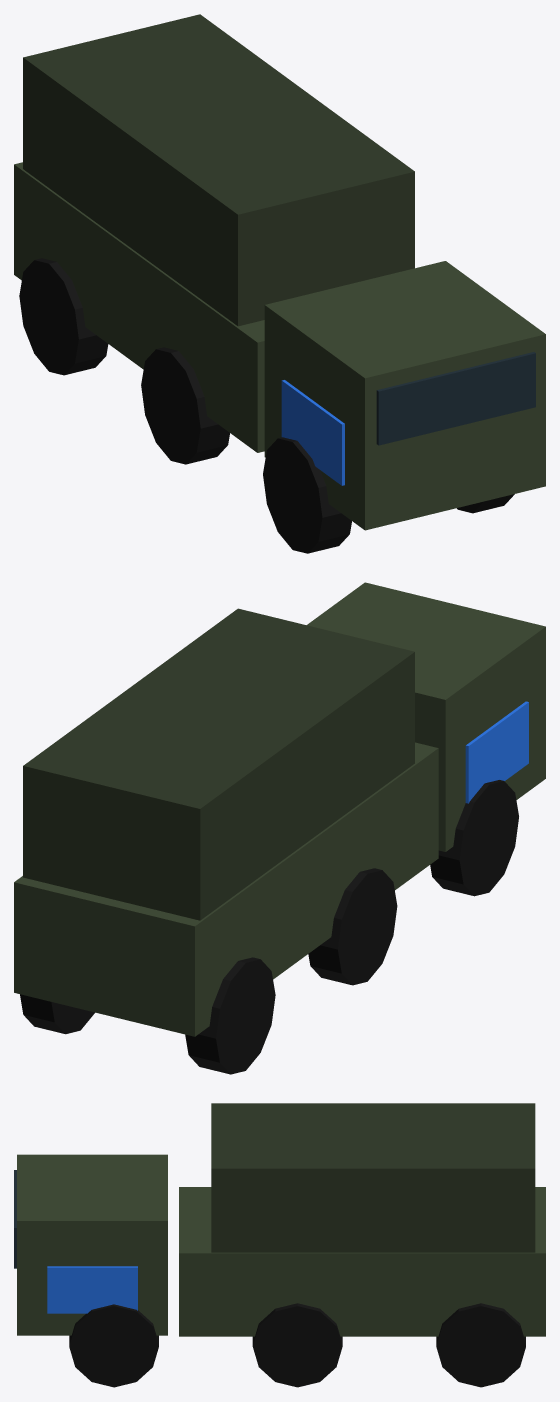
File: ru_logistics_truck.glb
The picture shows the model from 3 angles, top to bottom: view 1: azimuth 30°, elevation 25°; view 2: azimuth 150°, elevation 25°; view 3: azimuth 270°, elevation 25°; orthographic projection. The views are drawn at different scales.
Visible parts, largest first — view 1: armor_box, cab, body, windshield, wheel_l1, wheel_l2, wheel_l0, team_door_l; view 2: armor_box, body, cab, wheel_l2, wheel_l1, wheel_l0, team_door_l, wheel_r2; view 3: armor_box, body, cab, wheel_r1, wheel_r2, wheel_r0, team_door_r.
Part boxes in pixels (x1,y1,x2,y2): armor_box: [23, 14, 414, 326]; cab: [264, 261, 545, 530]; body: [14, 162, 264, 452]; windshield: [376, 352, 535, 445]; wheel_l1: [141, 347, 229, 464]; wheel_l2: [19, 258, 108, 375]; wheel_l0: [263, 437, 351, 553]; team_door_l: [281, 380, 344, 485]; armor_box: [23, 608, 414, 920]; body: [14, 742, 438, 1036]; cab: [307, 582, 545, 851]; wheel_l2: [185, 957, 275, 1074]; wheel_l1: [308, 868, 397, 985]; wheel_l0: [430, 780, 518, 896]; team_door_l: [465, 701, 528, 803]; wheel_r2: [20, 994, 94, 1034]; armor_box: [211, 1103, 535, 1252]; body: [179, 1187, 545, 1336]; cab: [17, 1154, 167, 1335]; wheel_r1: [252, 1303, 342, 1387]; wheel_r2: [436, 1303, 525, 1387]; wheel_r0: [69, 1304, 158, 1387]; team_door_r: [47, 1266, 137, 1313].
Bounding box in the file's own units: 2.6 × 3.61 × 8.08.
